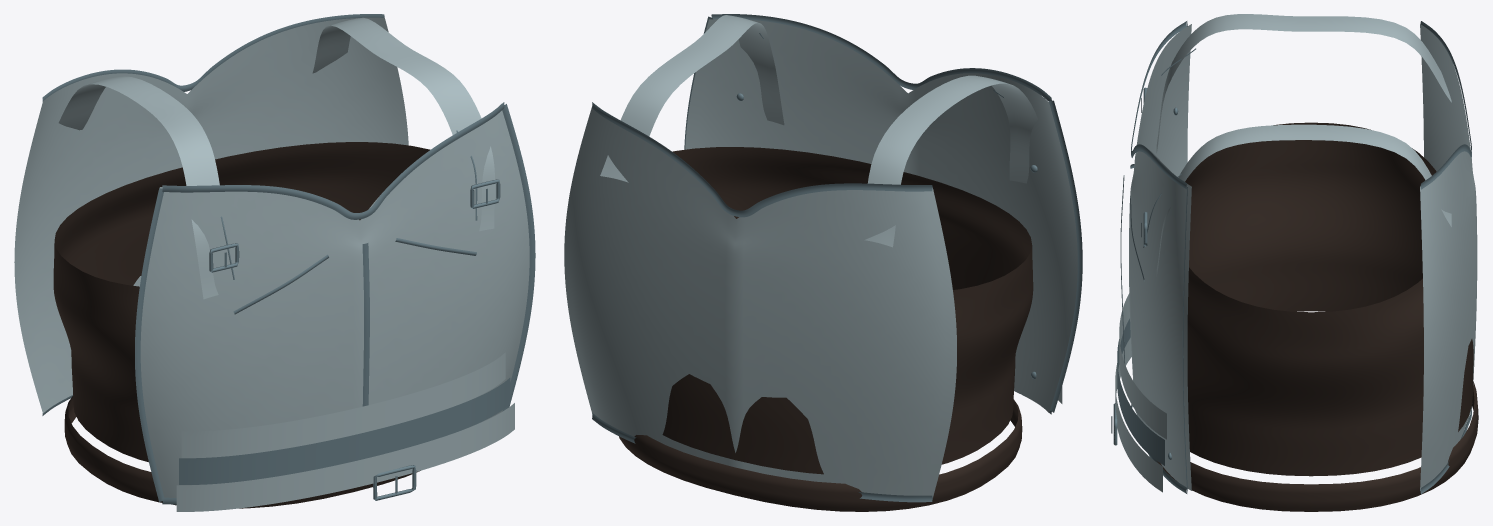
Rendered from tempered_cuirass.glb.
The picture shows the model from 3 angles, left to right: view 1: azimuth 30°, elevation 25°; view 2: azimuth 150°, elevation 25°; view 3: azimuth 270°, elevation 25°; orthographic projection. The views are drawn at different scales.
Parts seen in each view (by area): view 1: crate-tempered_cuirass-cuirass-surface-1, crate-tempered_cuirass-cuirass-surface-0, crate-tempered_cuirass-cuirass-surface-2; view 2: crate-tempered_cuirass-cuirass-surface-1, crate-tempered_cuirass-cuirass-surface-0, crate-tempered_cuirass-cuirass-surface-2; view 3: crate-tempered_cuirass-cuirass-surface-0, crate-tempered_cuirass-cuirass-surface-1, crate-tempered_cuirass-cuirass-surface-2.
Part boxes in pixels (x1,y1,x2,y2): crate-tempered_cuirass-cuirass-surface-1: [14, 17, 529, 511]; crate-tempered_cuirass-cuirass-surface-0: [53, 142, 430, 508]; crate-tempered_cuirass-cuirass-surface-2: [42, 14, 535, 504]; crate-tempered_cuirass-cuirass-surface-1: [564, 15, 1077, 497]; crate-tempered_cuirass-cuirass-surface-0: [619, 147, 1033, 511]; crate-tempered_cuirass-cuirass-surface-2: [592, 14, 1082, 502]; crate-tempered_cuirass-cuirass-surface-0: [1157, 122, 1478, 511]; crate-tempered_cuirass-cuirass-surface-1: [1115, 14, 1477, 492]; crate-tempered_cuirass-cuirass-surface-2: [1111, 21, 1471, 494].
Size of the model in its own units: 0.893 by 0.7645 by 0.7264.
